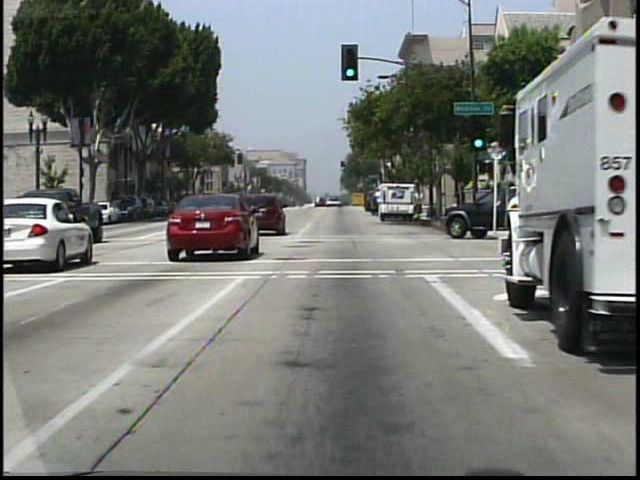person: (414, 188, 425, 222)
